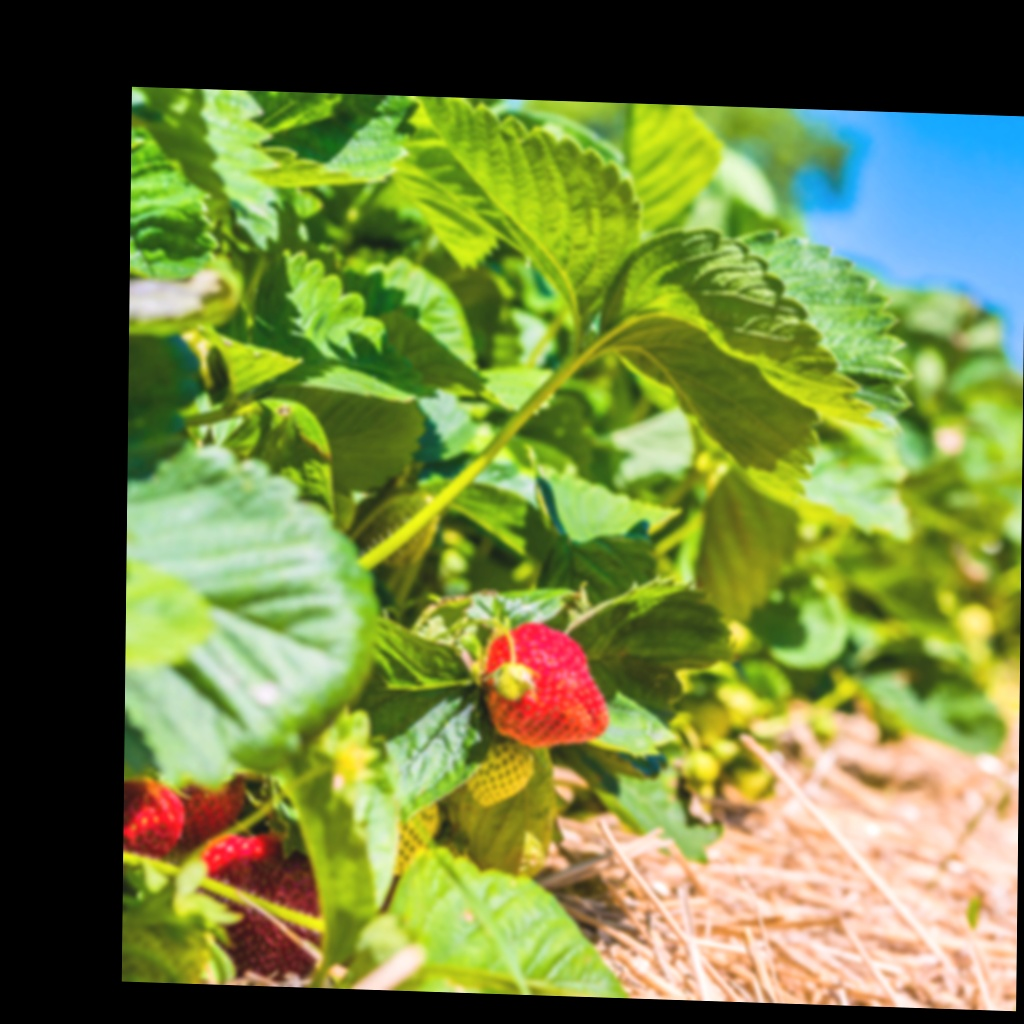ripe_strawberry: (190, 827, 329, 980), (479, 618, 614, 750), (174, 771, 252, 860), (124, 772, 187, 863)
unripe_strawberry: (463, 736, 539, 812), (394, 799, 442, 880)
